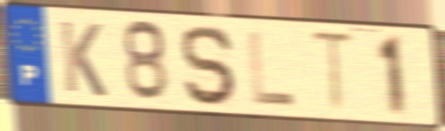1: (376, 31, 413, 120)
8: (119, 18, 170, 107)
K: (57, 17, 109, 100)
L: (246, 28, 299, 109)
S: (179, 23, 241, 109)
T: (307, 27, 358, 116)
